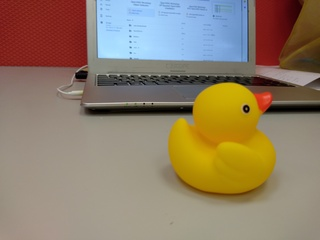duck: (163, 78, 284, 202)
